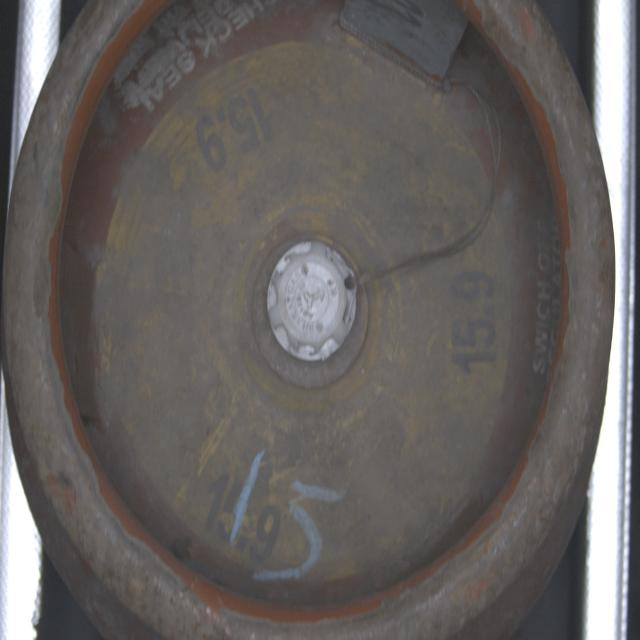Cap: (267, 236, 358, 367)
